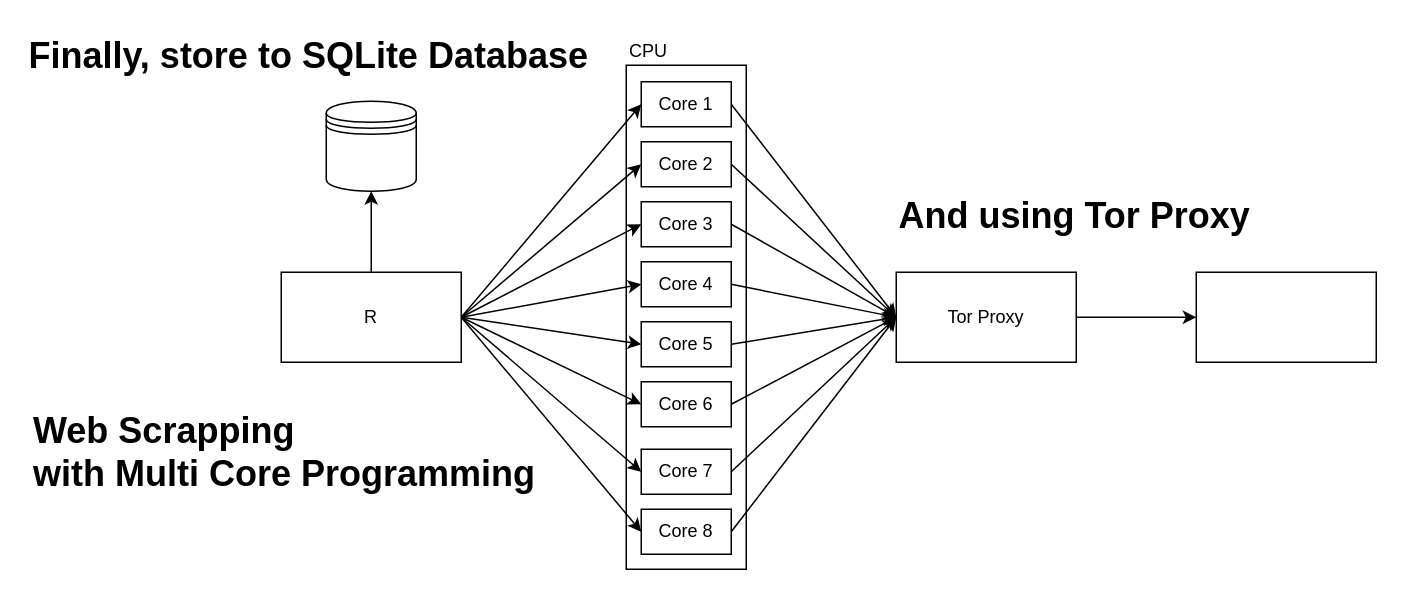
Some shapes in this 1403 by 606 pixel diagram are drawn without their labels. Each missing label, with the centre of its shape:
Nate News: the point at 1285,316
SQLite: the point at 370,145
